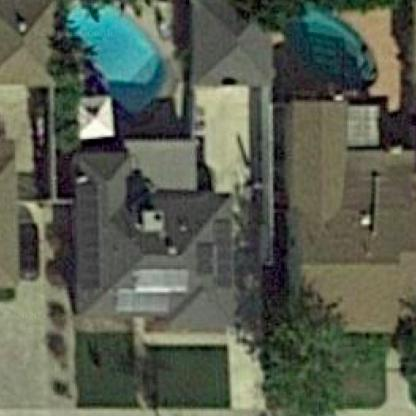solar_panel: (110, 264, 188, 315), (192, 219, 234, 298), (80, 179, 104, 294)
swimming_pool: (56, 2, 179, 130), (271, 4, 384, 99)
